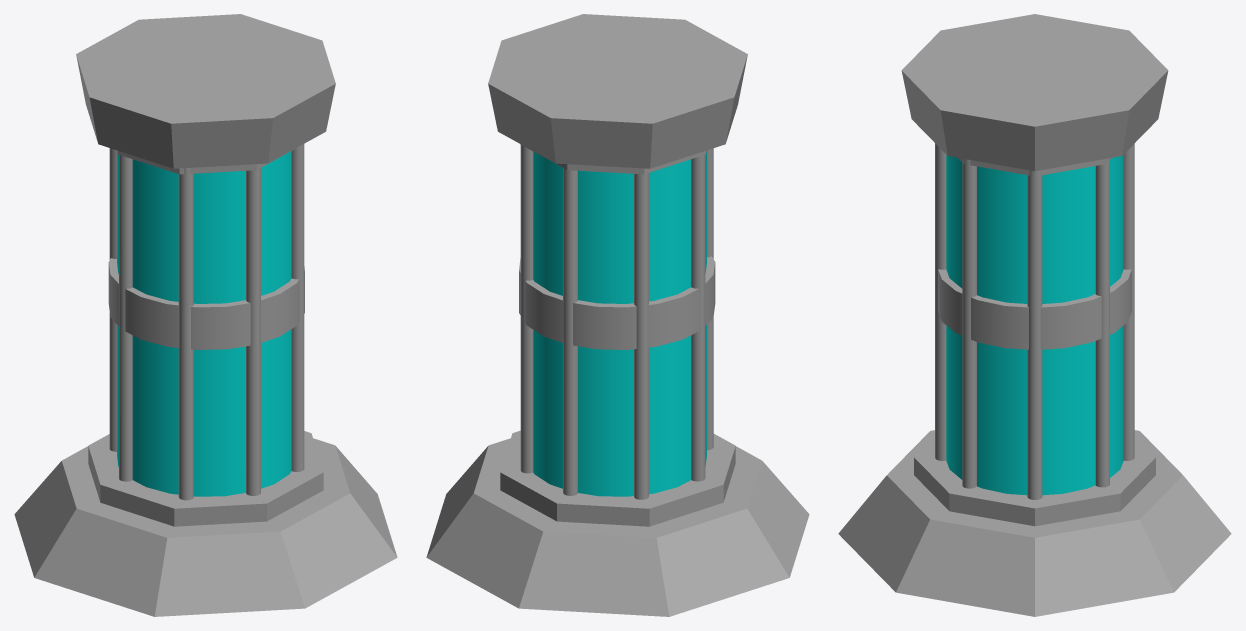
Rendered from SciFiPipe.fbx.
The picture shows the model from 3 angles, left to right: view 1: azimuth 30°, elevation 25°; view 2: azimuth 150°, elevation 25°; view 3: azimuth 270°, elevation 25°; orthographic projection.
Visible parts, largest first — view 1: ScifiObject; view 2: ScifiObject; view 3: ScifiObject.
Part boxes in pixels (x1,y1,x2,y2): ScifiObject: (14,14,397,616); ScifiObject: (426,14,809,616); ScifiObject: (838,14,1231,616).
Bounding box in the file's own units: 2.66 × 3.45 × 2.66.
